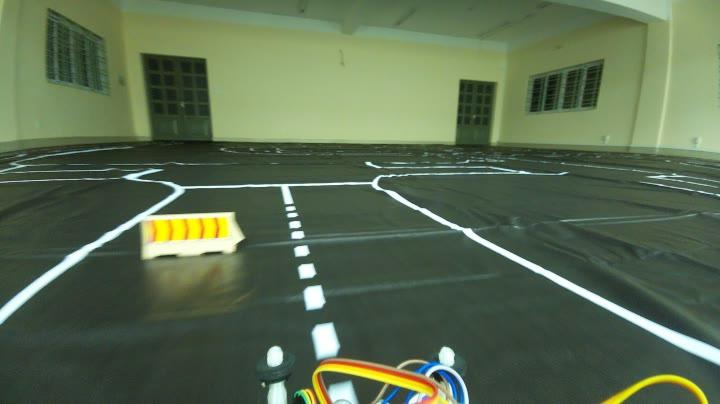roadblock: (136, 212, 242, 266)
